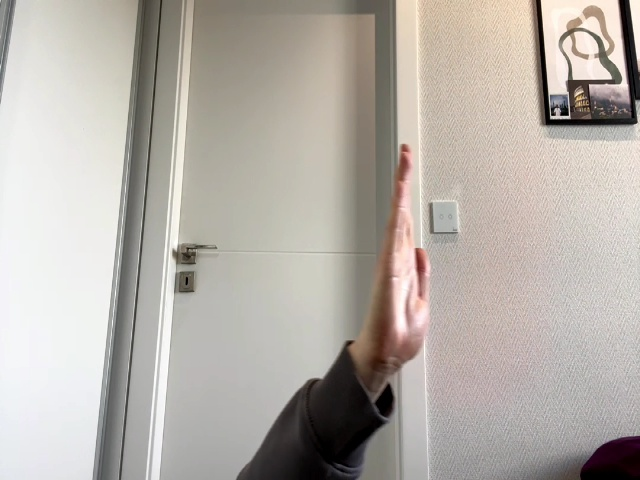SZ: (369, 144, 430, 362)
